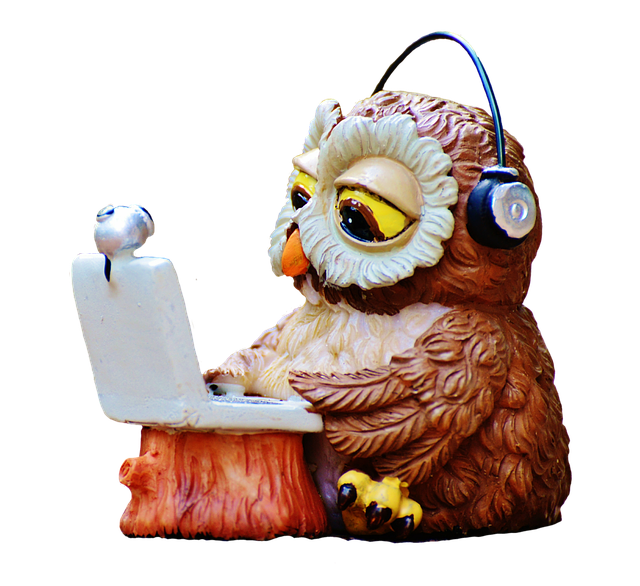headphones: (371, 32, 538, 253)
